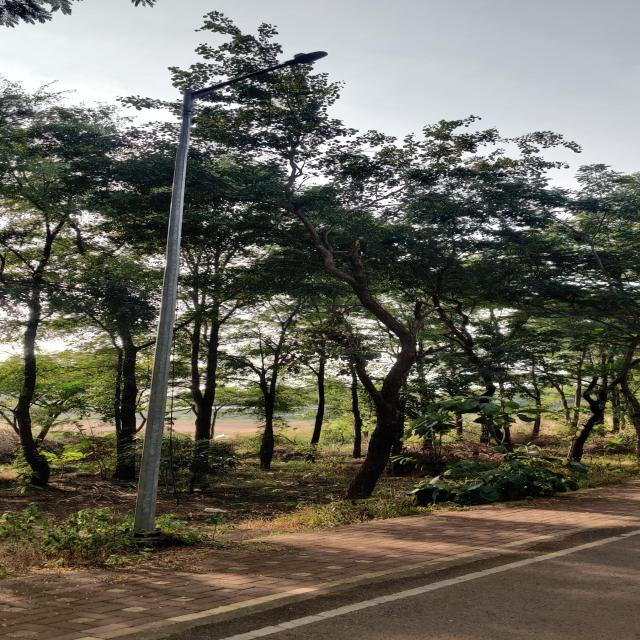Devakanchan tree: (158, 11, 519, 291)
